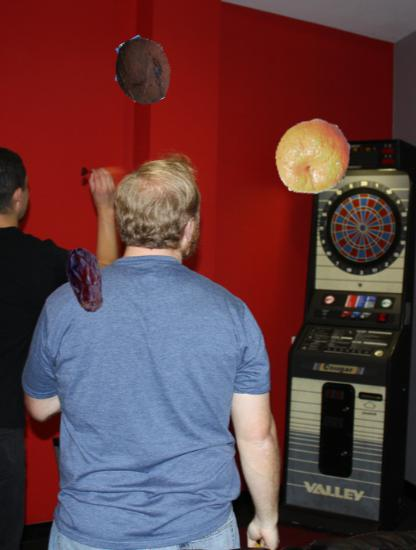Cocos: (108, 37, 177, 106)
Dates: (53, 247, 120, 314)
Mandarine: (273, 118, 354, 199)
